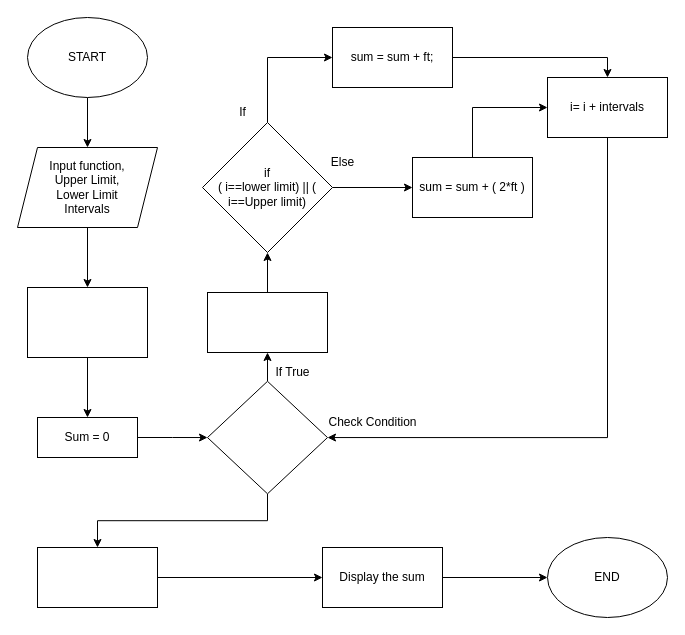
Image size: 685x635. Some labels were removed from this diagram. Here are the shapes that lost their labels. From the top down, the centre of each, then its label:
At (x=87, y=322): "h=(Upper limit-Lower limit)/Intervals".
At (x=267, y=322): "ft = subs( f(x) ,x , i )".
At (x=267, y=437): "for i= lower limit : intervals: Upper Limt".
At (x=97, y=577): "Ans = (h/2)* sum".
